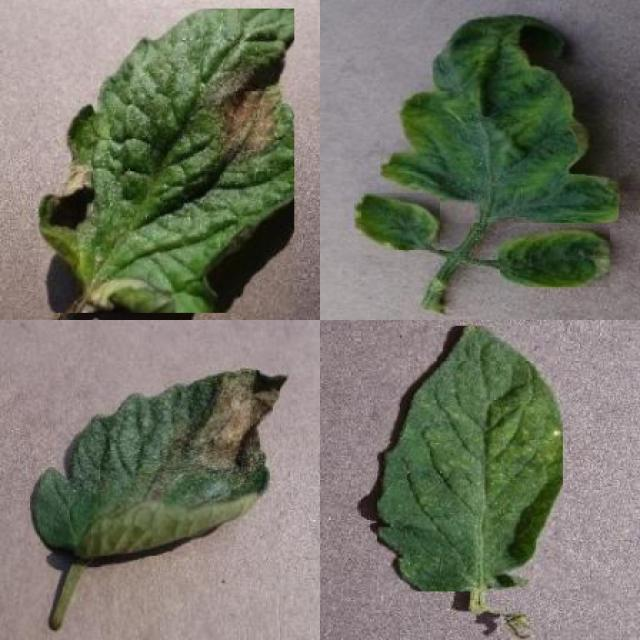Late Blight: (39, 8, 294, 313), (32, 370, 288, 556)
Spider Mites: (377, 325, 563, 592)
Yellow Leaf Curl Virus: (380, 12, 619, 222), (500, 227, 610, 287), (354, 193, 440, 250)
